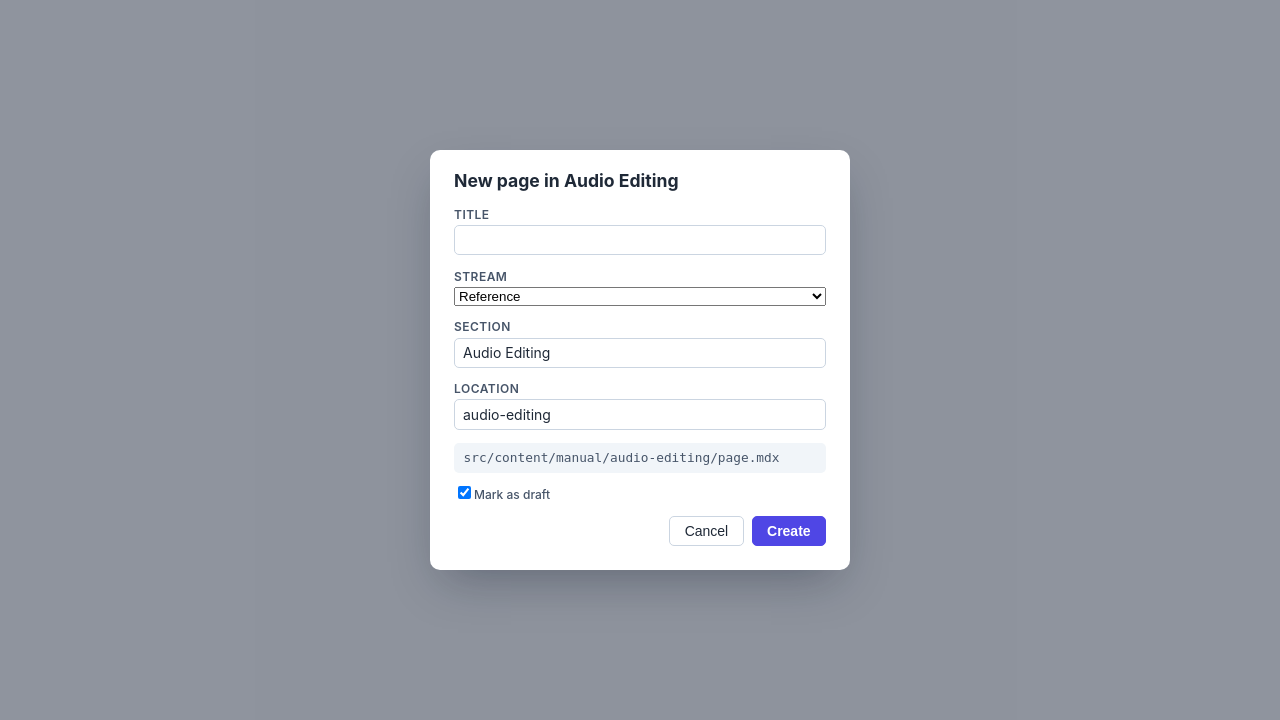
with sectionPrefill, pre-fills Section and Location from the section's first page
Expected: the heading "New page in Audio Editing" is shown, x1=454 y1=170 x2=679 y2=191
Expected: the field with id "new-page-section" holds "Audio Editing", x1=454 y1=338 x2=826 y2=368
Type "Fades" into the field labelled "Title" at [640, 240], box x1=454 y1=225 x2=826 y2=255
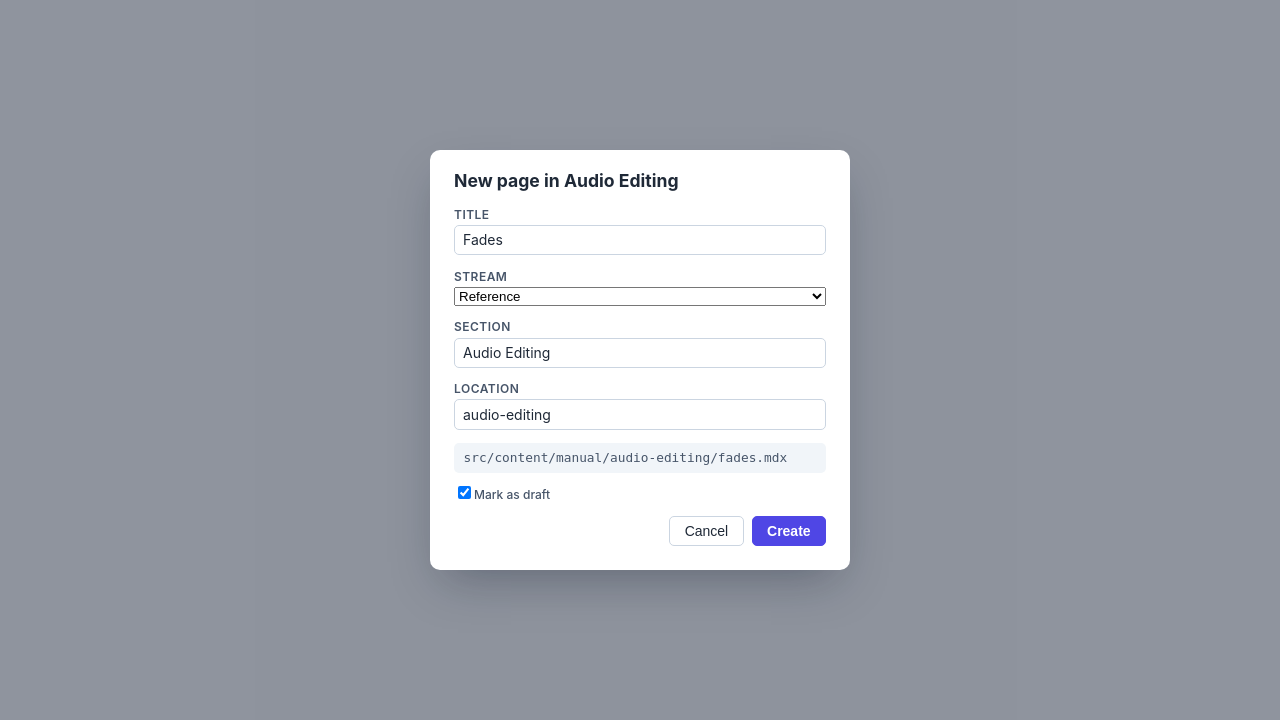
Now the text with test id "new-page-path-preview" reads "src/content/manual/audio-editing/fades.mdx", box x1=464 y1=450 x2=787 y2=466
